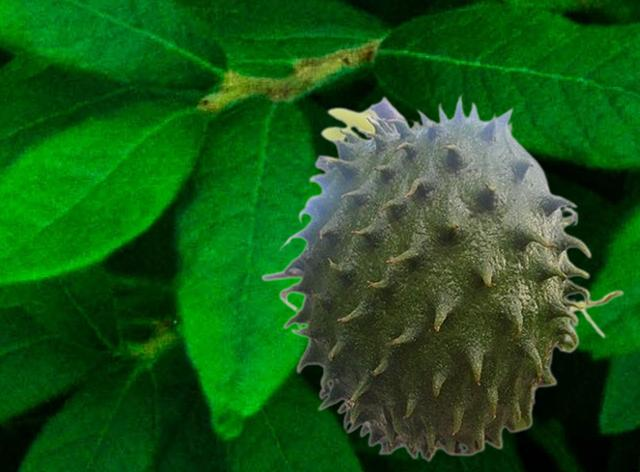guyabano: (260, 92, 624, 462)
